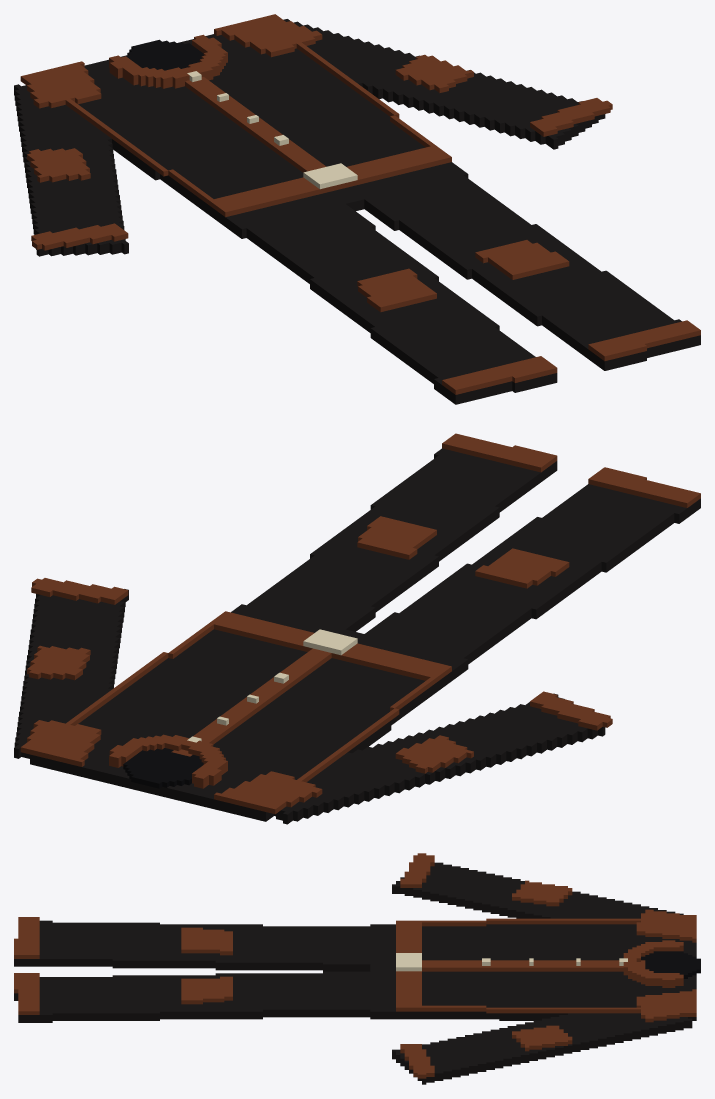
Rendered from suit_xlblack_dragon_hide.glb.
The picture shows the model from 3 angles, top to bottom: view 1: azimuth 30°, elevation 25°; view 2: azimuth 150°, elevation 25°; view 3: azimuth 270°, elevation 25°; orthographic projection. The views are drawn at different scales.
Visible parts, largest first — view 1: suit_xlblack_dragon_hide:compound; view 2: suit_xlblack_dragon_hide:compound; view 3: suit_xlblack_dragon_hide:compound.
Part boxes in pixels (<box>): suit_xlblack_dragon_hide:compound: <box>14,14,700,404</box>; suit_xlblack_dragon_hide:compound: <box>14,433,700,824</box>; suit_xlblack_dragon_hide:compound: <box>14,853,700,1084</box>.
Bounding box in the file's own units: 1.22 × 0.04 × 1.6.
